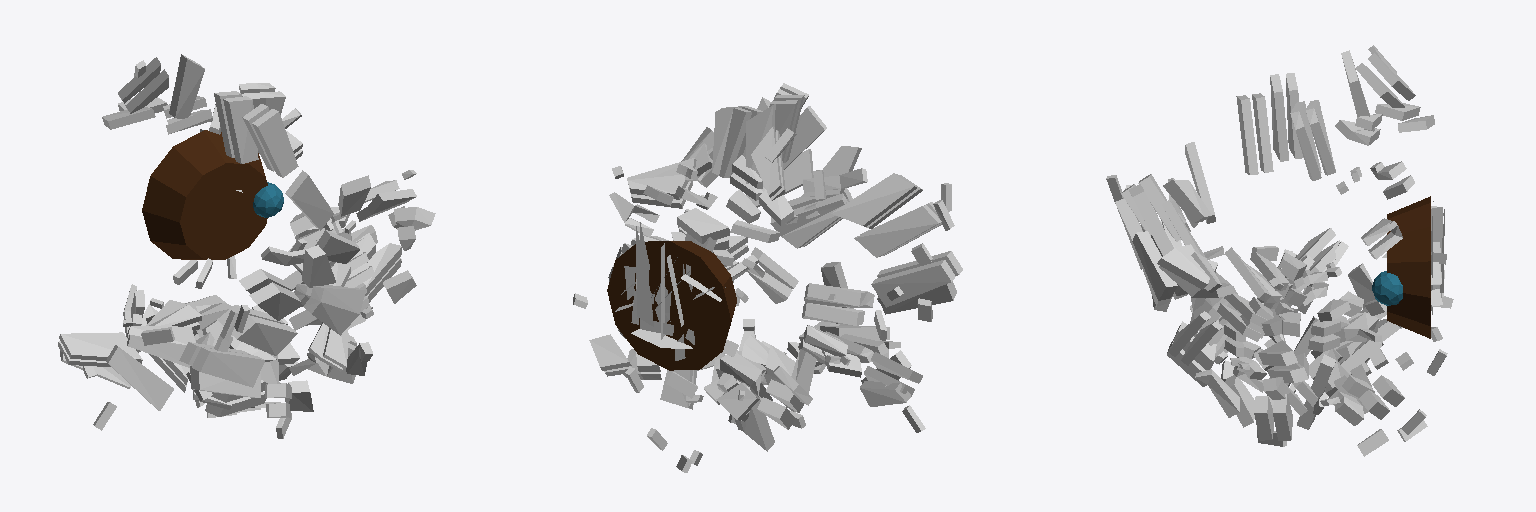
The picture shows the model from 3 angles: view 1: azimuth 30°, elevation 25°; view 2: azimuth 150°, elevation 25°; view 3: azimuth 270°, elevation 25°; orthographic projection.
Parts seen in each view (by area): view 1: Cone.001_Cone.001_cover, Cone_Cone_cover, Cylinder_Cylinder_Material.001, Icosphere_Icosphere_ball; view 2: Cone_Cone_cover, Cone.001_Cone.001_cover, Cylinder_Cylinder_Material.001, Plane_Plane_Material.003; view 3: Cone.001_Cone.001_cover, Cone_Cone_cover, Cylinder_Cylinder_Material.001, Plane_Plane_Material.003, Icosphere_Icosphere_ball.
Boxes of the visible parts, x1=… form: Cone.001_Cone.001_cover: x1=58, y1=54, x2=416, y2=430; Cone_Cone_cover: x1=141, y1=175, x2=435, y2=438; Cylinder_Cylinder_Material.001: x1=142, y1=130, x2=267, y2=259; Icosphere_Icosphere_ball: x1=253, y1=182, x2=283, y2=217; Cone_Cone_cover: x1=573, y1=97, x2=962, y2=472; Cone.001_Cone.001_cover: x1=609, y1=83, x2=954, y2=450; Cylinder_Cylinder_Material.001: x1=607, y1=241, x2=736, y2=370; Plane_Plane_Material.003: x1=615, y1=222, x2=725, y2=360; Cone.001_Cone.001_cover: x1=1106, y1=45, x2=1447, y2=434; Cone_Cone_cover: x1=1115, y1=174, x2=1442, y2=456; Cylinder_Cylinder_Material.001: x1=1387, y1=196, x2=1430, y2=338; Plane_Plane_Material.003: x1=1382, y1=201, x2=1453, y2=314; Icosphere_Icosphere_ball: x1=1372, y1=271, x2=1402, y2=305.
Bounding box in the file's own units: 3.06 × 3.19 × 2.7.
Materials: 4 (1 with a texture image).